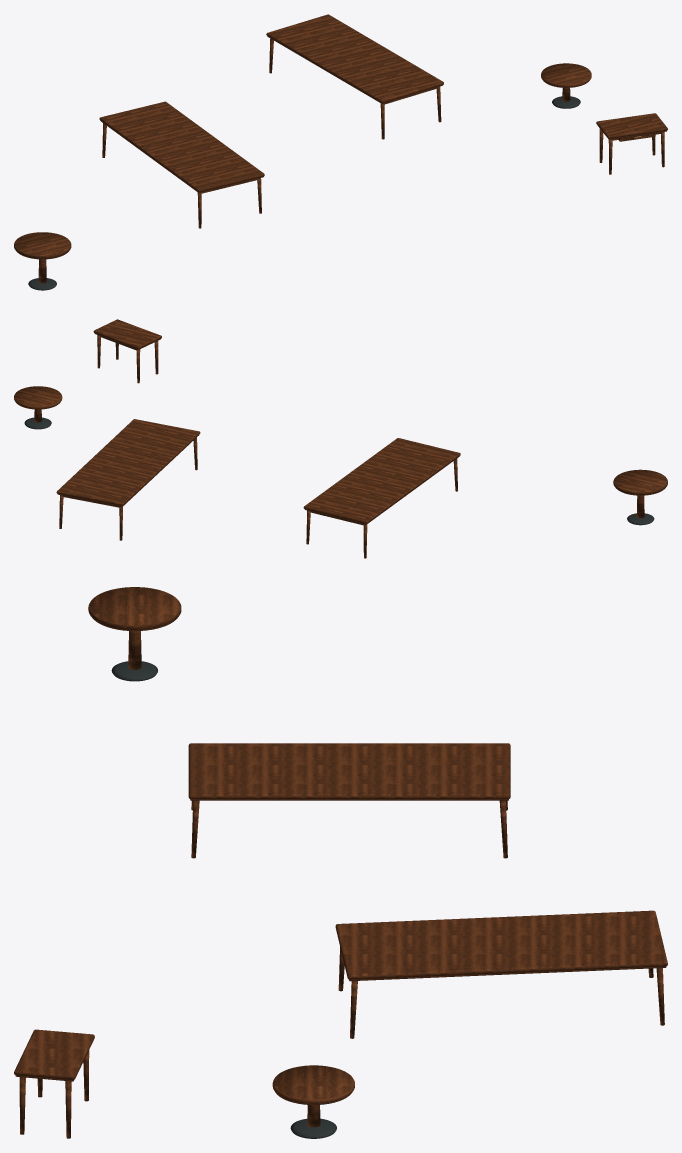
File: atelier_tables_roastery.glb
The picture shows the model from 3 angles, top to bottom: view 1: azimuth 30°, elevation 25°; view 2: azimuth 150°, elevation 25°; view 3: azimuth 270°, elevation 25°; orthographic projection. The views are drawn at different scales.
Visible parts, largest first — view 1: atelier_tables_roastery / Atelier / honey ash, atelier_tables_roastery / Atelier / smoked oak, atelier_tables_roastery / Atelier / charcoal powder coat; view 2: atelier_tables_roastery / Atelier / honey ash, atelier_tables_roastery / Atelier / smoked oak, atelier_tables_roastery / Atelier / charcoal powder coat; view 3: atelier_tables_roastery / Atelier / honey ash, atelier_tables_roastery / Atelier / smoked oak, atelier_tables_roastery / Atelier / charcoal powder coat.
Part boxes in pixels (x1,y1,x2,y2): atelier_tables_roastery / Atelier / honey ash: (14, 14, 667, 258); atelier_tables_roastery / Atelier / smoked oak: (38, 38, 664, 283); atelier_tables_roastery / Atelier / charcoal powder coat: (28, 96, 580, 290); atelier_tables_roastery / Atelier / honey ash: (14, 319, 667, 523); atelier_tables_roastery / Atelier / smoked oak: (34, 335, 644, 558); atelier_tables_roastery / Atelier / charcoal powder coat: (24, 417, 654, 525); atelier_tables_roastery / Atelier / honey ash: (14, 587, 667, 1103); atelier_tables_roastery / Atelier / smoked oak: (19, 631, 664, 1138); atelier_tables_roastery / Atelier / charcoal powder coat: (111, 661, 336, 1138).
Size of the model in its own units: 13.08 by 0.8096 by 7.31.
3 materials, 1 textured.
